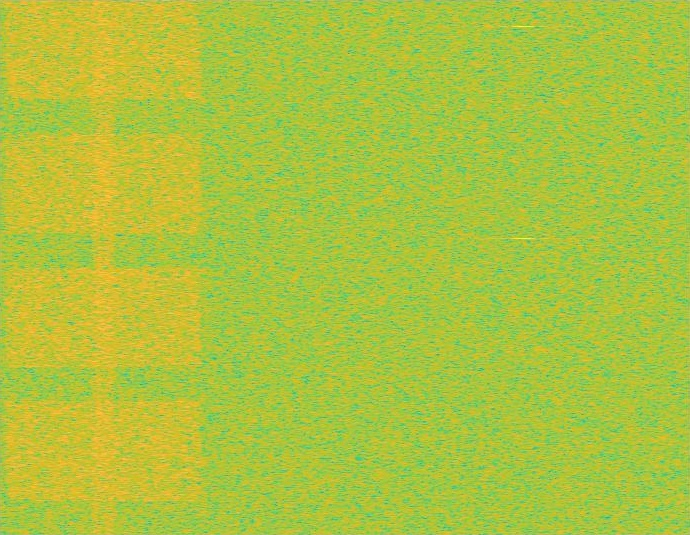5G: (0, 0, 207, 534)
DSSS: (90, 0, 117, 534)
Radar: (517, 0, 531, 534)
